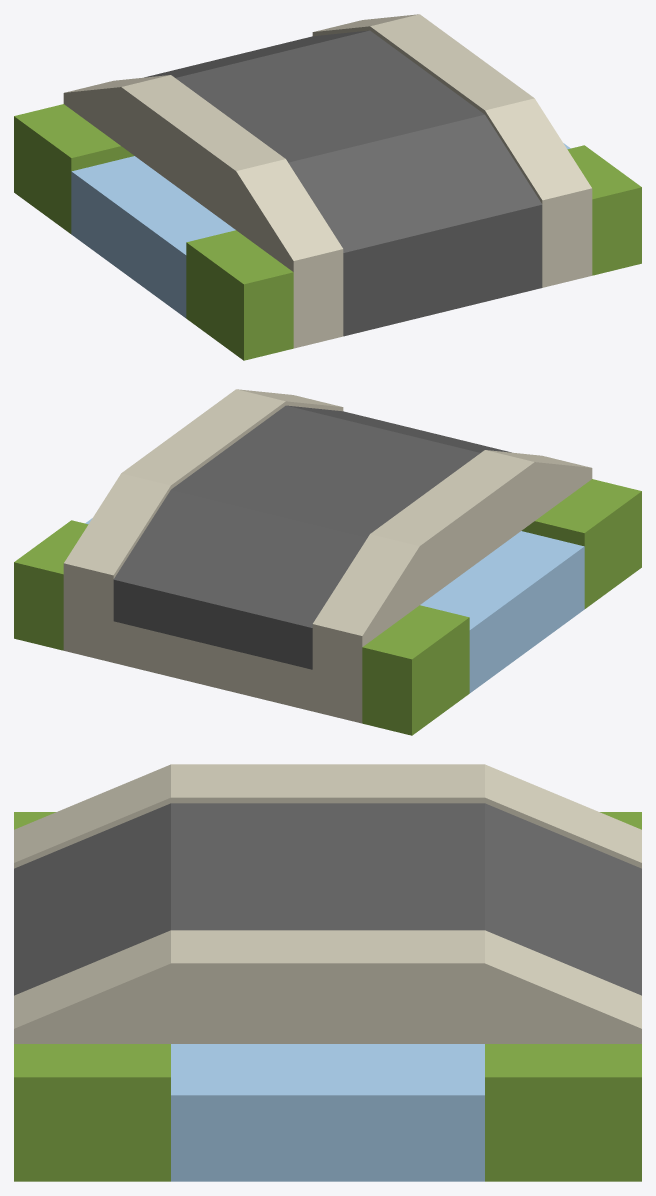
Rendered from tile203.obj.
3 renders of one model, top to bottom at view 1: azimuth 30°, elevation 25°; view 2: azimuth 150°, elevation 25°; view 3: azimuth 270°, elevation 25°, orthographic. The views are drawn at different scales.
Visible parts, largest first — view 1: tile203; view 2: tile203; view 3: tile203.
Part boxes in pixels (box(x1,y1,x2,y2)): tile203: box(14, 14, 641, 360); tile203: box(14, 389, 641, 735); tile203: box(14, 764, 641, 1181).
Size of the model in its own units: 1 by 0.325 by 1.
